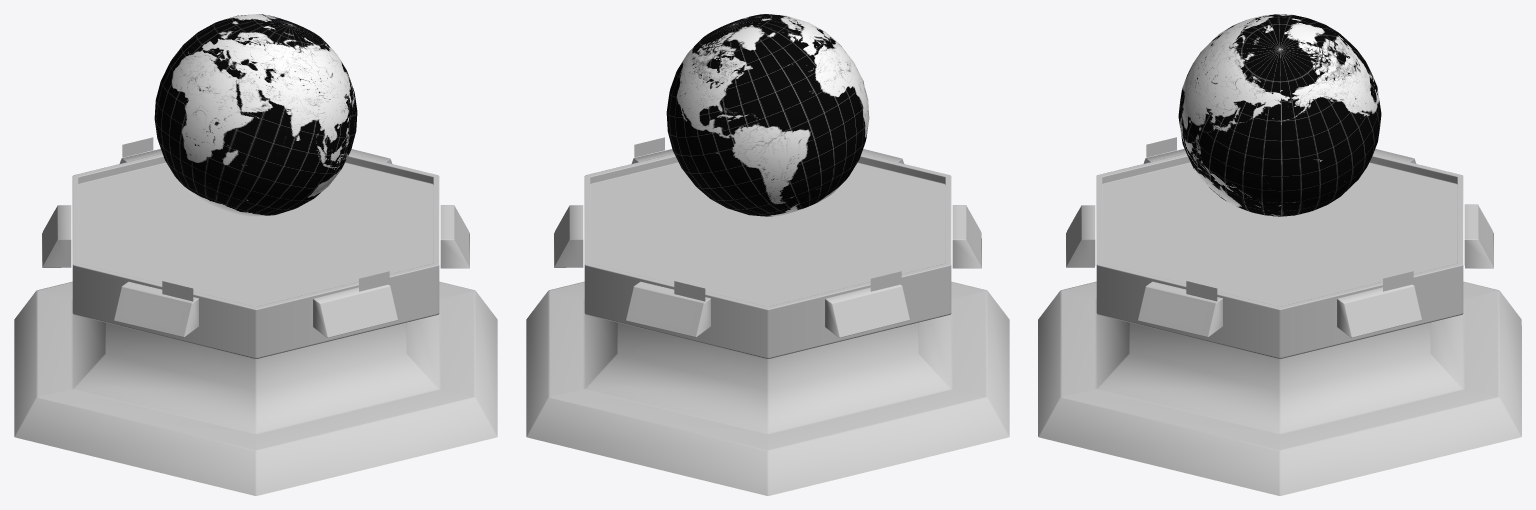
File: Holo_Table.fbx
3 views of the same model, side by side, from view 1: azimuth 30°, elevation 25°; view 2: azimuth 150°, elevation 25°; view 3: azimuth 270°, elevation 25° (orthographic).
Parts seen in each view (by area): view 1: Table, Hologram; view 2: Table, Hologram; view 3: Table, Hologram.
Part boxes in pixels (box(x1,y1,x2,y2)): Table: box(14, 137, 497, 495); Hologram: box(154, 14, 357, 216); Table: box(526, 137, 1009, 495); Hologram: box(666, 14, 869, 216); Table: box(1038, 137, 1521, 495); Hologram: box(1178, 14, 1381, 216).
Bounding box in the file's own units: 287 × 202 × 249.
